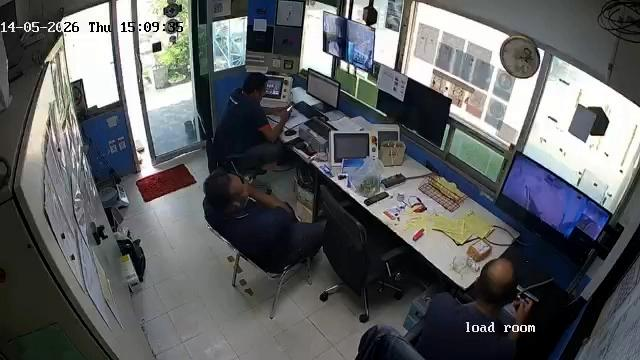Head: (474, 257, 518, 306), (204, 169, 250, 213), (244, 72, 269, 103)
People: (204, 168, 327, 264), (426, 257, 535, 360), (214, 73, 294, 165)
Phone: (284, 102, 296, 112)
